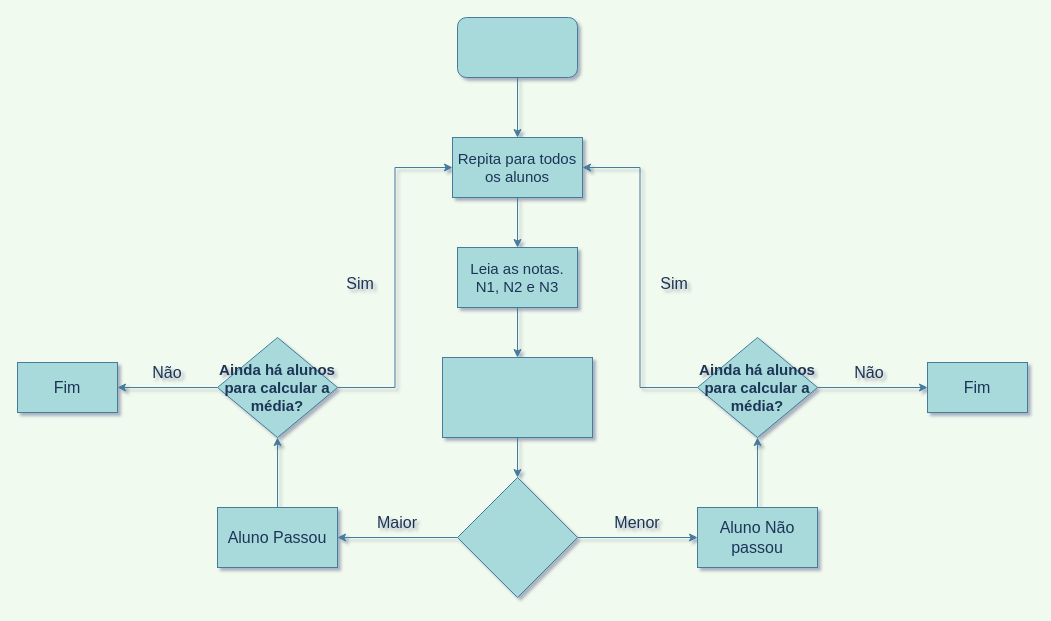
This 1051x621 diagram has some shape labels left out. Each missing label, with the box of its shape:
Faça a média: M = (N1, N2, N3)/3: (442, 356, 592, 438)
INICIO: (456, 16, 578, 78)
Se M > 5: (456, 476, 578, 598)
